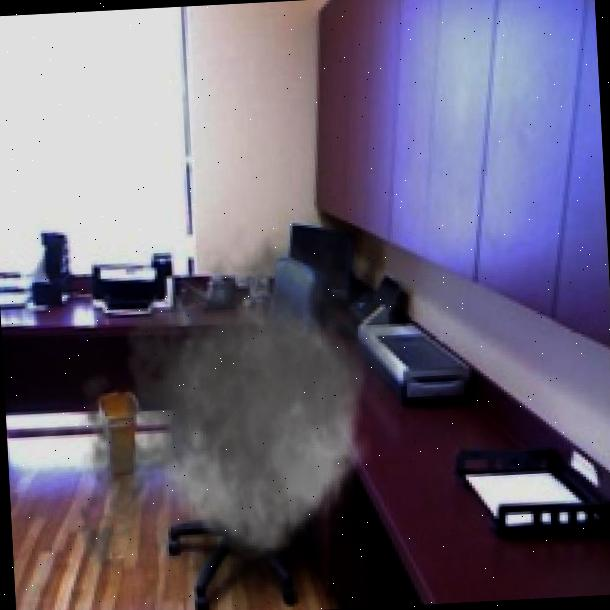smoke: (46, 208, 429, 610)
